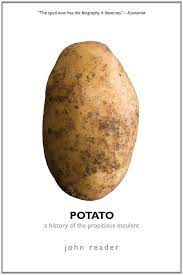potato: (44, 31, 151, 199)
